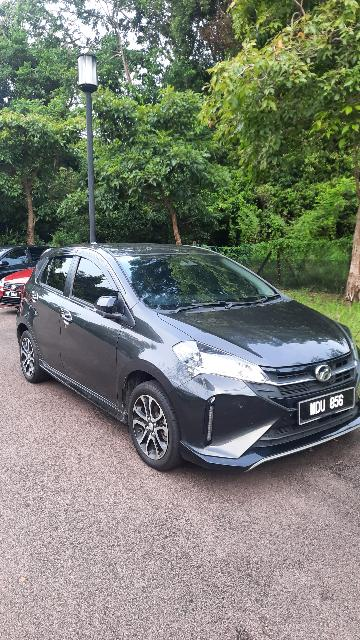License_Plate: (296, 384, 360, 428)
car: (18, 241, 360, 483)
